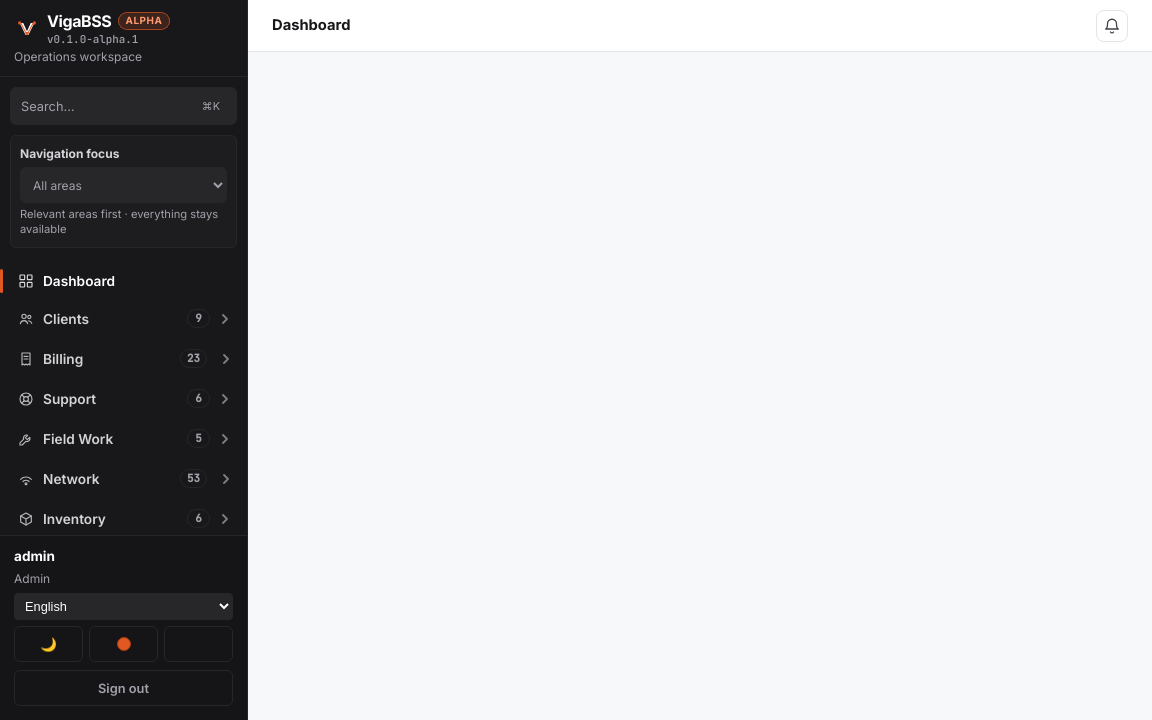
Test case: Layout — grouped sidebar navigation › offers navigation focus to multi-area staff and keeps every authorized area available
This screenshot has width=1152, height=720.
Select "Billing first" in the dropdown labelled "Navigation focus" at (124, 185), box [20,167,227,203]
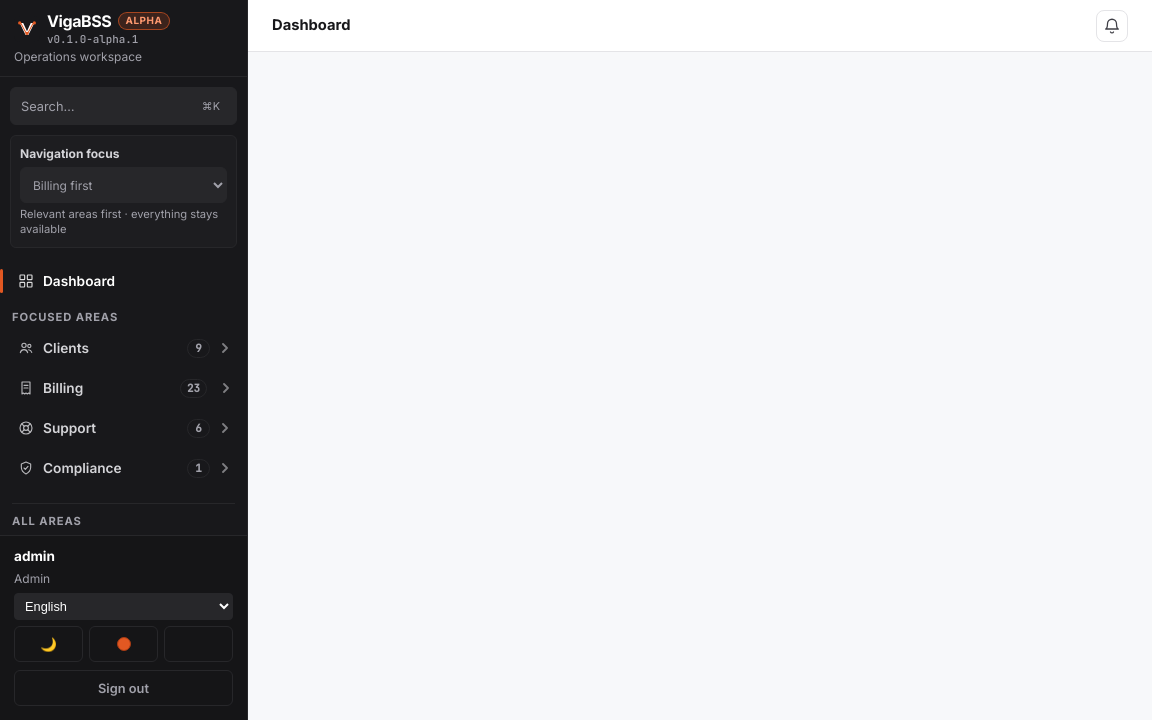
Expected: the text "Compliance" is shown, [43,460,122,476]
Expected: the text "Focused areas" is shown, [12,310,118,324]
Expected: the text "All areas" is shown, [12,503,235,530]
// Back to the full view restores canonical order and removes group dividers.
Select "All areas" in the dropdown labelled "Navigation focus" at (124, 185), box [20,167,227,203]
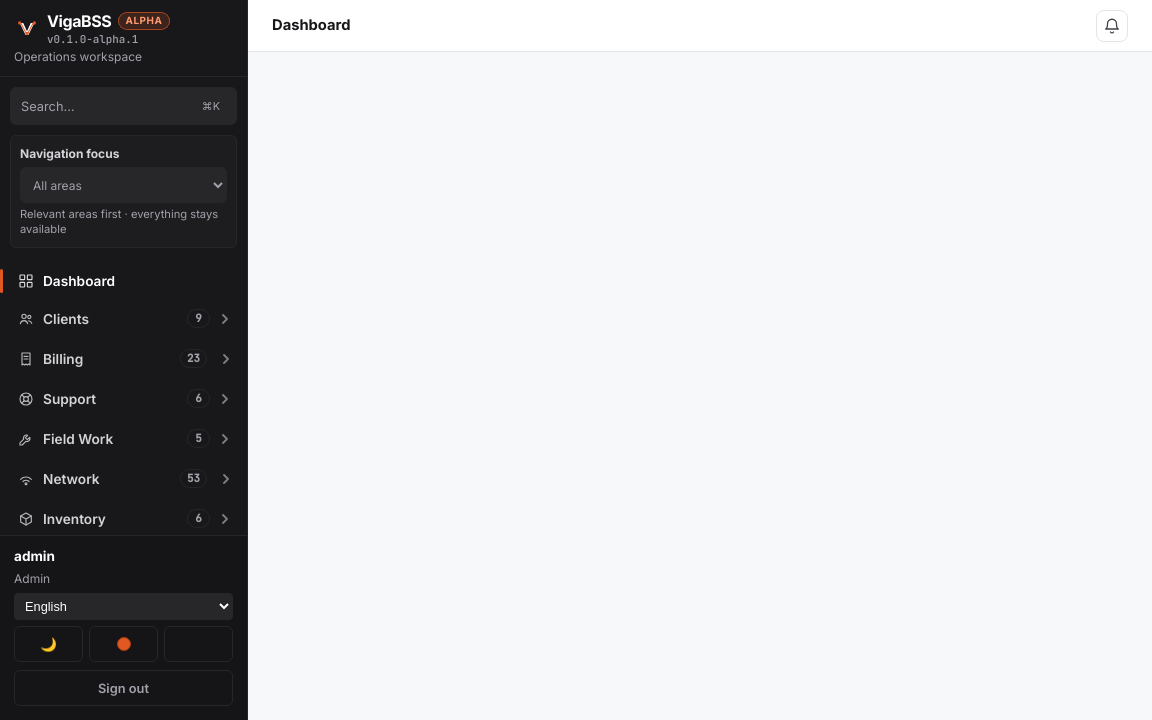
Expected: the text "Network" is shown, [43,470,100,486]
Expected: the text "Focused areas" is gone
